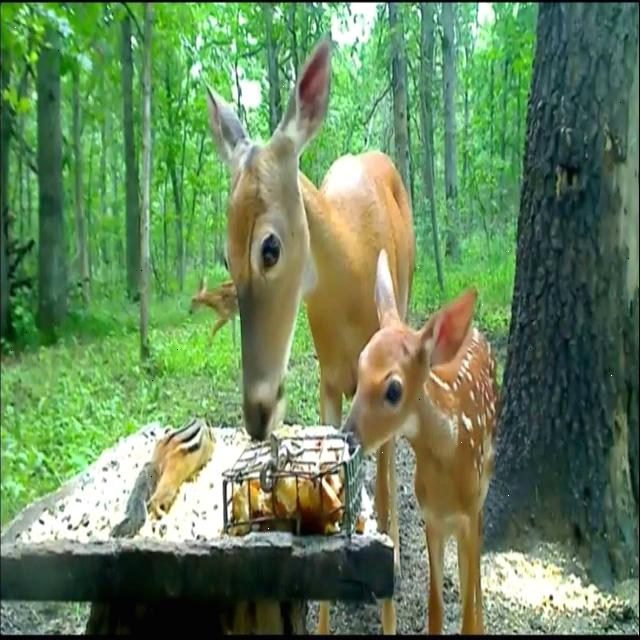deer: (201, 33, 355, 408), (334, 242, 486, 498)
